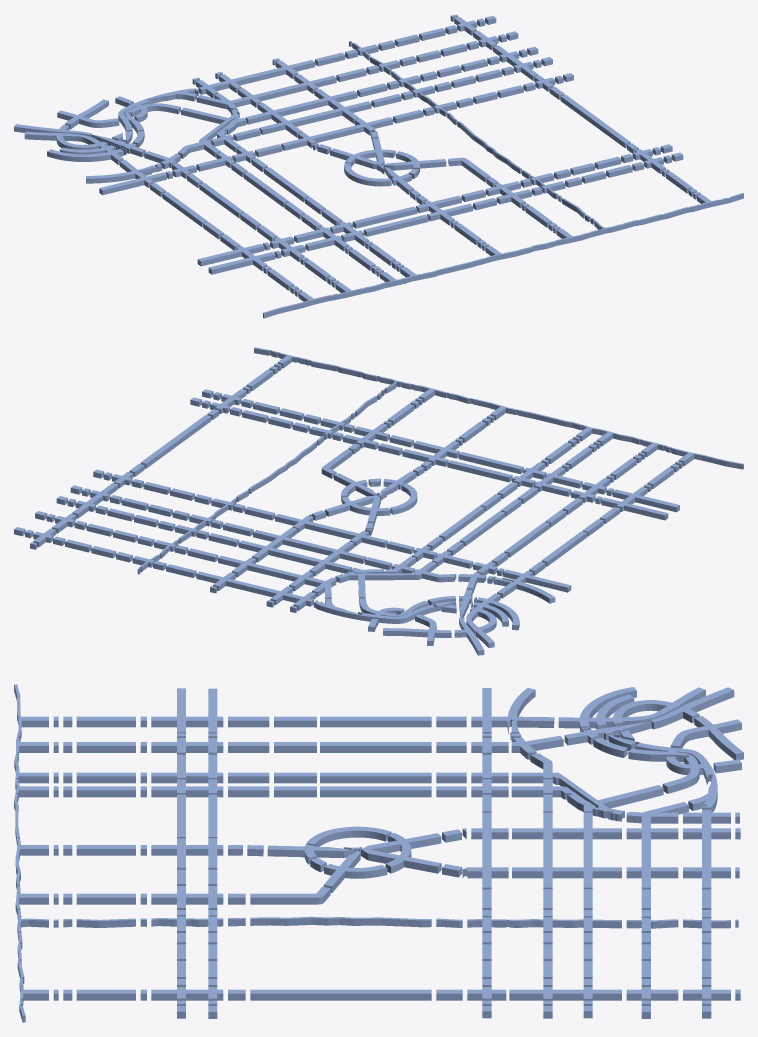
File: main_roads.glb
3 renders of one model, top to bottom at view 1: azimuth 30°, elevation 25°; view 2: azimuth 150°, elevation 25°; view 3: azimuth 270°, elevation 25°, orthographic. The views are drawn at different scales.
Visible parts, largest first — view 1: world; view 2: world; view 3: world.
Boxes of the visible parts, x1,y1,x2,y2 form: world: [14, 14, 743, 318]; world: [14, 347, 743, 655]; world: [14, 684, 743, 1022].
Bounding box in the file's own units: 103 × 1 × 95.65.
